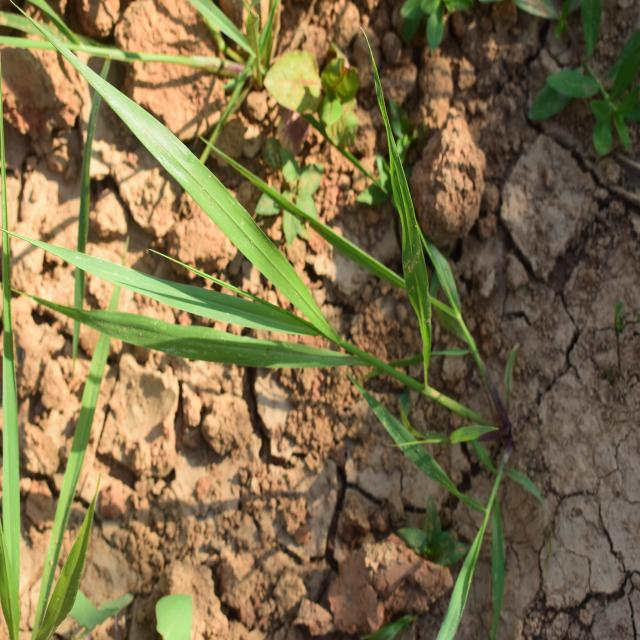green_foxtail: (94, 100, 519, 604)
